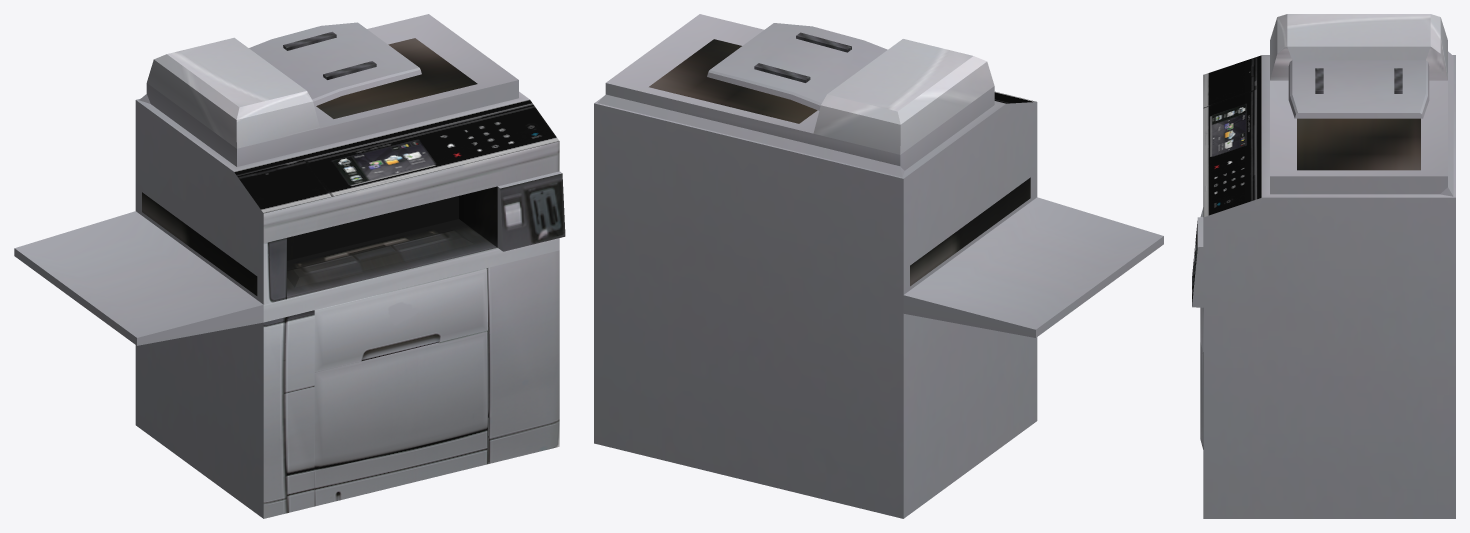
File: Printer.FBX
3 renders of one model, left to right at view 1: azimuth 30°, elevation 25°; view 2: azimuth 150°, elevation 25°; view 3: azimuth 270°, elevation 25°, orthographic. The views are drawn at different scales.
Parts seen in each view (by area): view 1: Printer; view 2: Printer; view 3: Printer.
Boxes of the visible parts, <box> form: Printer: <box>14,14,565,518</box>; Printer: <box>594,14,1163,518</box>; Printer: <box>1192,14,1455,518</box>.
Bounding box in the file's own units: 152 × 130 × 83.98.
